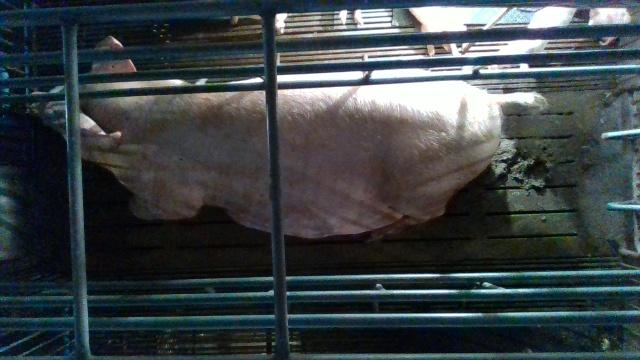piglet: (406, 4, 483, 53), (499, 7, 578, 53)
sow-sit: (26, 37, 548, 239)
